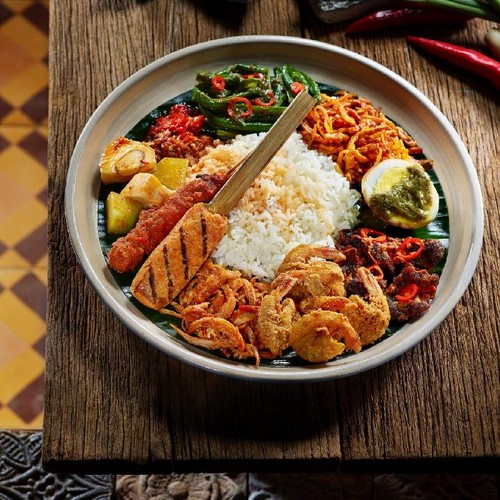nasi campur bali: (154, 72, 412, 333)
